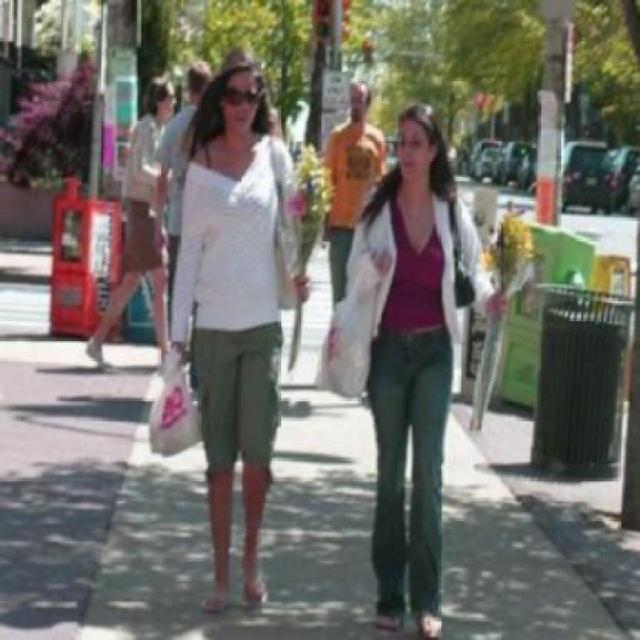Person: (342, 101, 507, 638), (171, 58, 284, 616), (88, 74, 184, 374), (304, 86, 385, 294)
